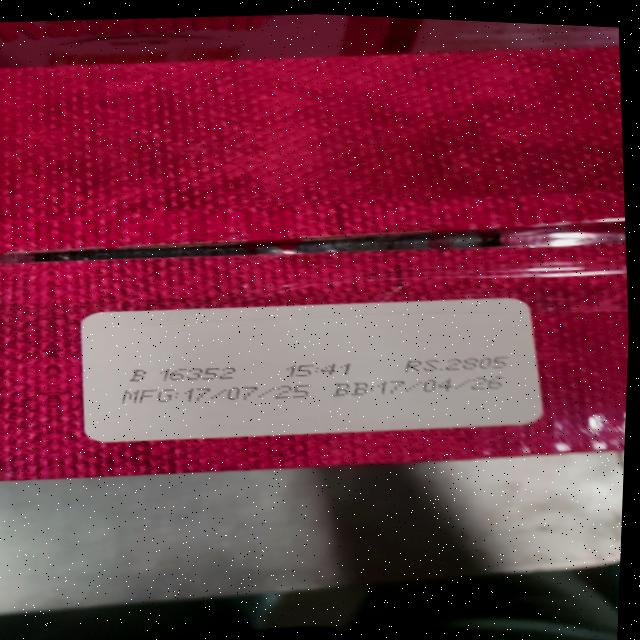BB: (329, 368, 507, 405)
Batch: (129, 361, 240, 387)
MFG: (120, 375, 310, 412)
RS: (404, 350, 514, 377)
TimeStamp: (281, 359, 356, 380)
